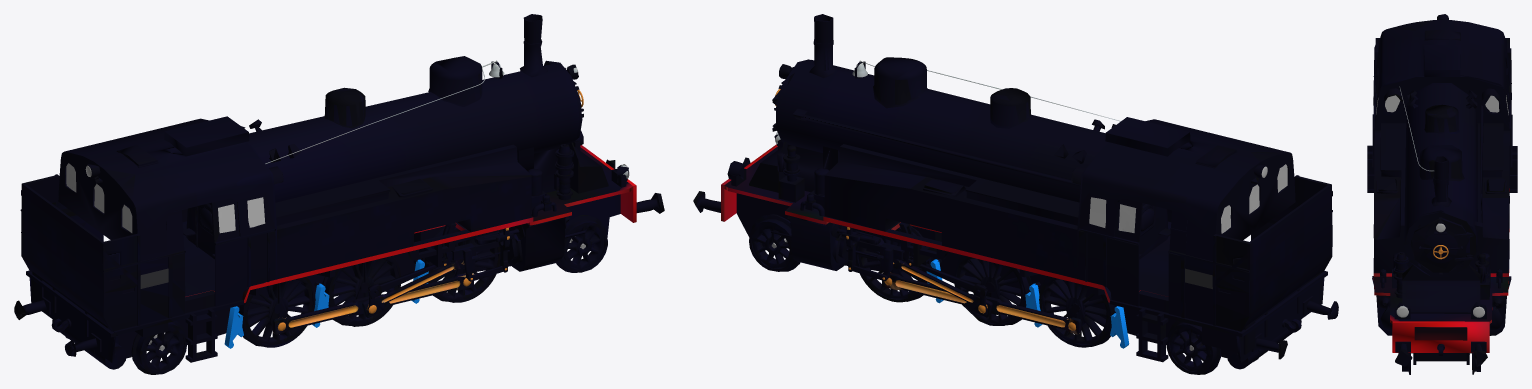
File: train.glb
The picture shows the model from 3 angles, left to right: view 1: azimuth 30°, elevation 25°; view 2: azimuth 150°, elevation 25°; view 3: azimuth 270°, elevation 25°; orthographic projection. The views are drawn at different scales.
Parts seen in each view (by area): view 1: Small train; view 2: Small train; view 3: Small train.
Part boxes in pixels (left/top/right/bottom): Small train: left=14, top=14, right=664, bottom=374; Small train: left=693, top=14, right=1338, bottom=374; Small train: left=1367, top=14, right=1517, bottom=374.
Size of the model in its own units: 10.01 by 3.97 by 2.68.
Materials: 90 (89 with a texture image).
